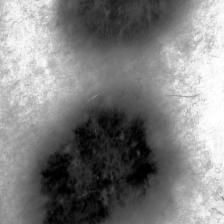Benign Marking or Mole: (25, 89, 174, 224), (55, 0, 197, 57)
